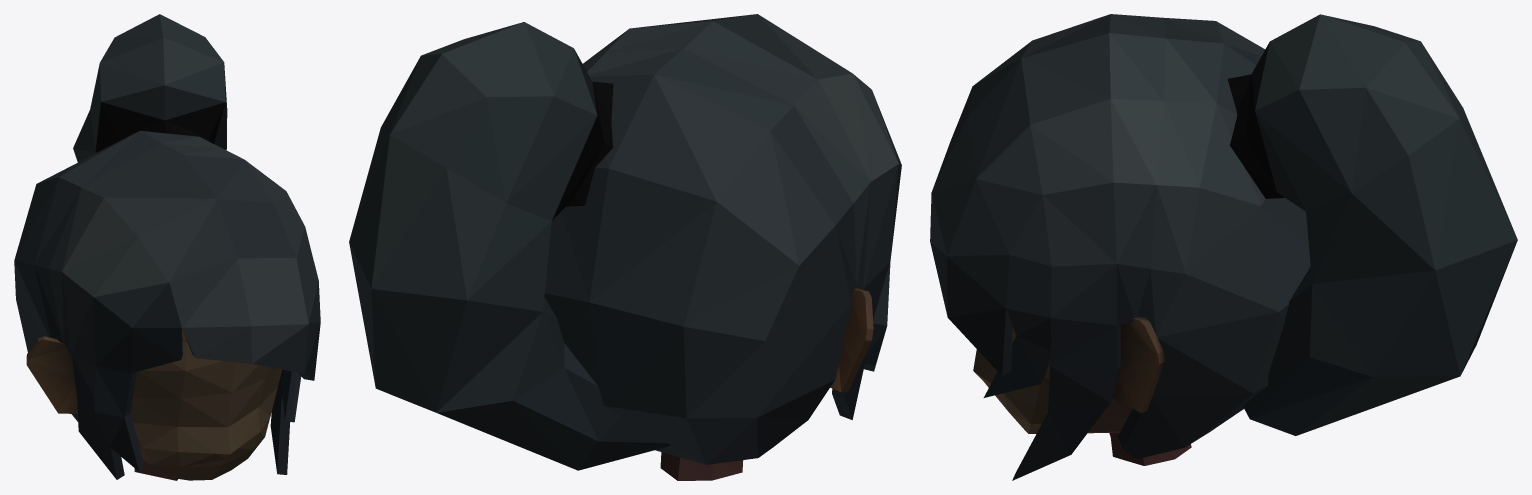
File: helm_darkskin_ponytail_black.fbx
3 renders of one model, left to right at view 1: azimuth 30°, elevation 25°; view 2: azimuth 150°, elevation 25°; view 3: azimuth 270°, elevation 25°, orthographic. The views are drawn at different scales.
Parts seen in each view (by area): view 1: helm_darkskin_ponytail_black; view 2: helm_darkskin_ponytail_black; view 3: helm_darkskin_ponytail_black.
Boxes of the visible parts, bbox=[...] form: helm_darkskin_ponytail_black: bbox=[14, 14, 320, 480]; helm_darkskin_ponytail_black: bbox=[349, 14, 901, 480]; helm_darkskin_ponytail_black: bbox=[930, 14, 1517, 480].
Bounding box in the file's own units: 1.21 × 1.49 × 1.64.
